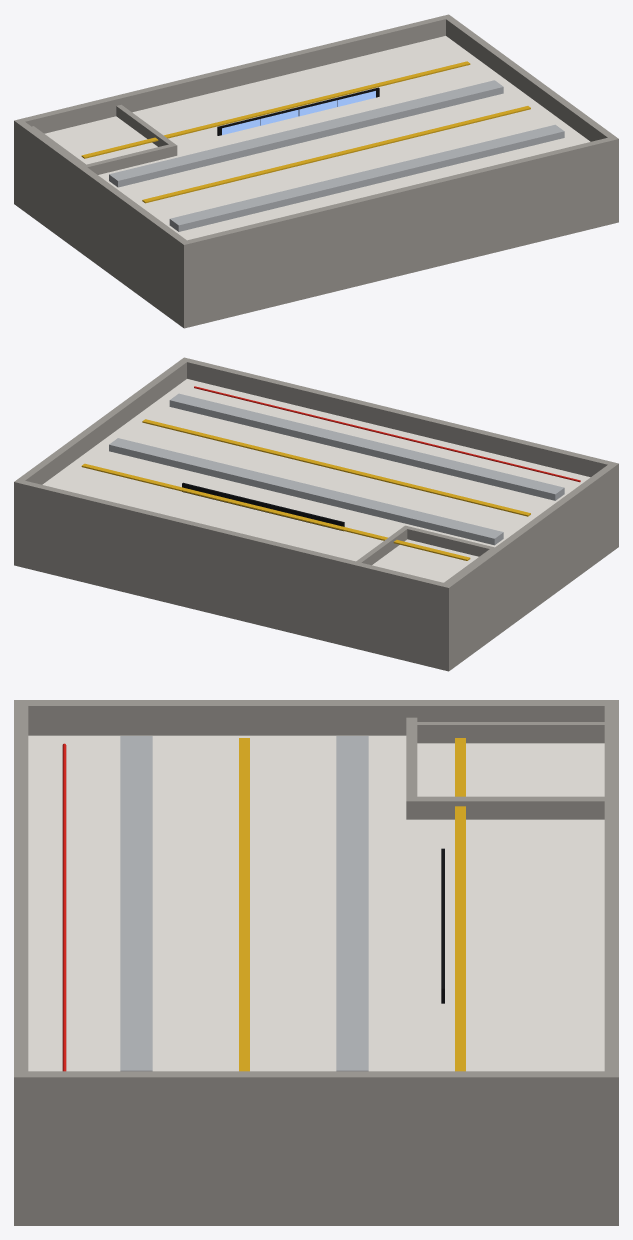
The picture shows the model from 3 angles, top to bottom: view 1: azimuth 30°, elevation 25°; view 2: azimuth 150°, elevation 25°; view 3: azimuth 270°, elevation 25°; orthographic projection. The views are drawn at different scales.
Visible parts, largest first — view 1: LV_B1; view 2: LV_B1; view 3: LV_B1.
Boxes of the visible parts, x1,y1,x2,y2 form: LV_B1: (14, 14, 618, 328); LV_B1: (14, 357, 618, 671); LV_B1: (14, 700, 618, 1225).
Size of the model in its own units: 24.8 by 4.55 by 16.8.
